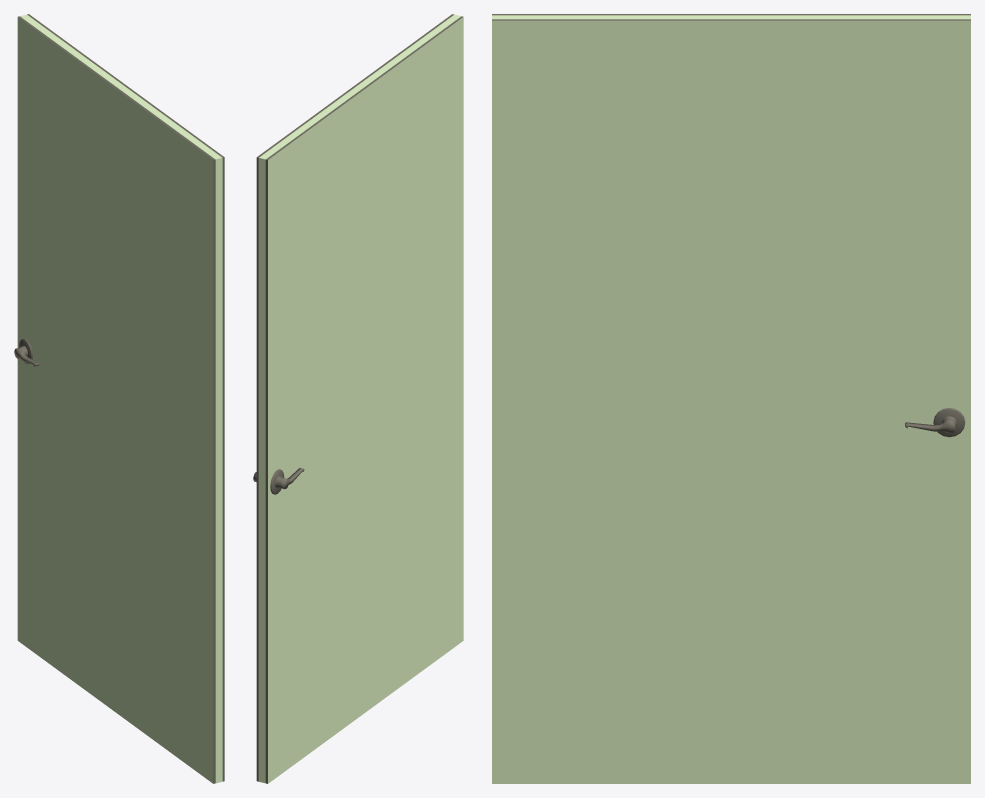
The model's file is Door.dae.
3 renders of one model, left to right at view 1: azimuth 30°, elevation 25°; view 2: azimuth 150°, elevation 25°; view 3: azimuth 270°, elevation 25°, orthographic. The views are drawn at different scales.
Parts seen in each view (by area): view 1: Door; view 2: Door; view 3: Door.
Part boxes in pixels (x1,y1,x2,y2): Door: [14, 14, 224, 783]; Door: [253, 14, 463, 783]; Door: [492, 14, 970, 783].
Size of the model in its own units: 0.109 by 1.2 by 2.11.
